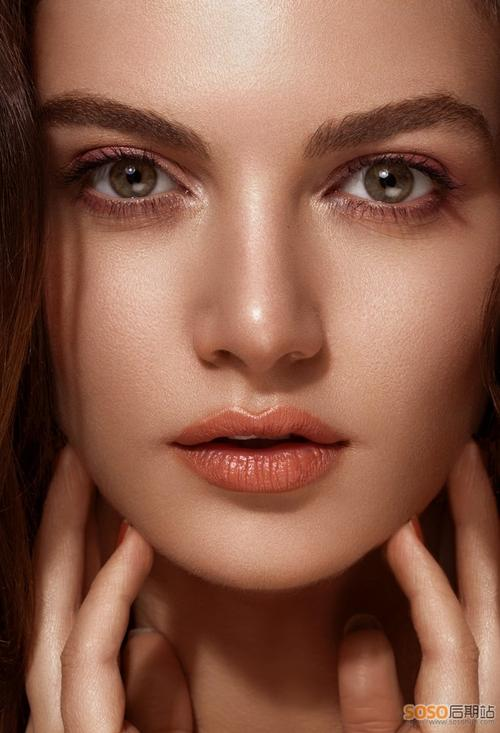no_mask: (31, 18, 496, 570)
